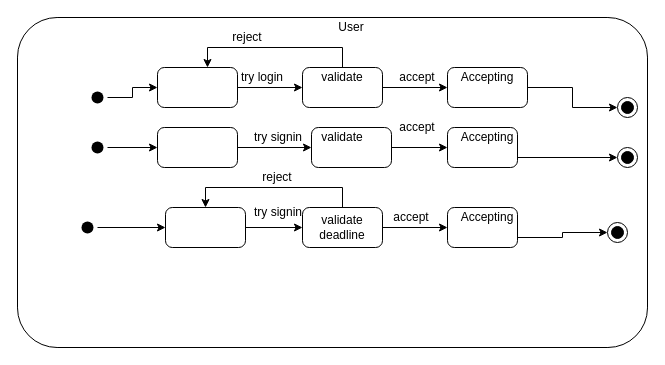
Some shapes in this 665 by 365 pixel diagram are drawn without their labels. Here are the shapes that lost their labels. From the top down, the centre of each, then its label:
At [197,87]: "Login".
At [197,147]: "Sign in".
At [205,227]: "Upload Proposal".
